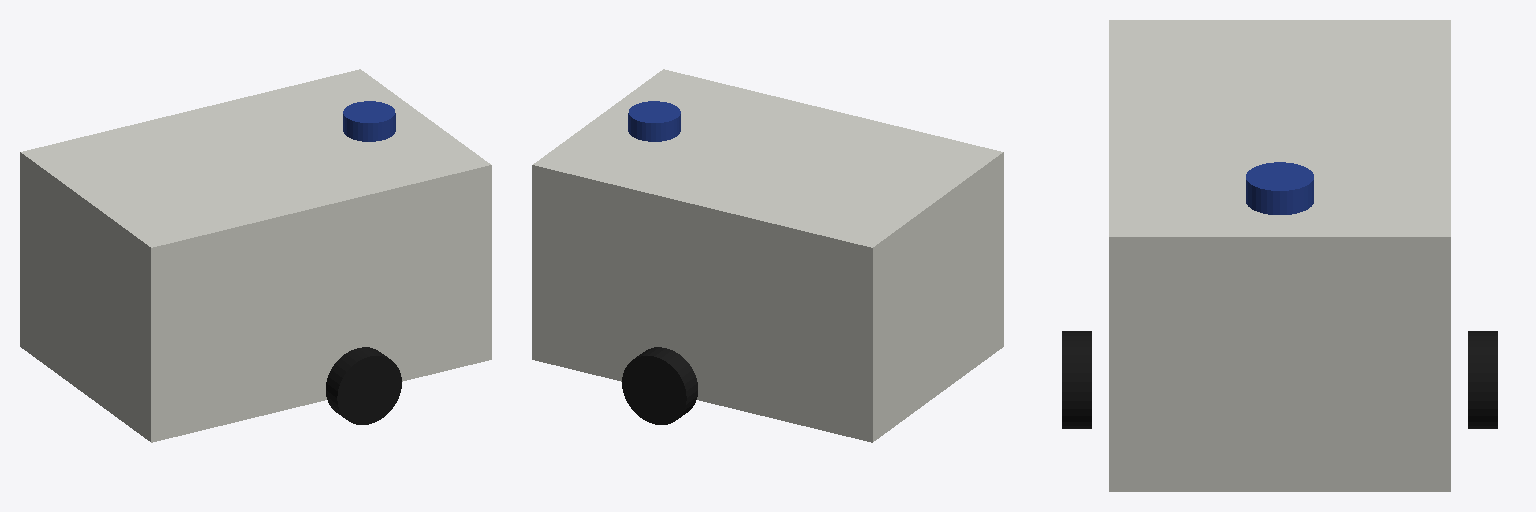
The robot description file, URDF, robot "v8carrier":
<?xml version="1.0"?>
<!-- GENERATED by v8carrier_description/urdf_generator.py from cad/params.yaml.
     Do not edit by hand: run `ros2 run v8carrier_description generate_urdf`
     (or `python3 -m v8carrier_description.urdf_generator`) after changing the
     parameters. Units: metres, kilograms. -->
<robot name="v8carrier">
  <material name="shell"><color rgba="0.85 0.85 0.82 1"/></material>
  <material name="dark"><color rgba="0.15 0.15 0.15 1"/></material>
  <material name="sensor"><color rgba="0.2 0.3 0.6 1"/></material>

  <!-- On the floor under the axle midpoint: the frame odometry and Nav2 use. -->
  <link name="base_footprint"/>

  <joint name="base_footprint_joint" type="fixed">
    <parent link="base_footprint"/>
    <child link="base_link"/>
    <origin xyz="0.0000 0.0000 0.0400" rpy="0 0 0"/>
  </joint>

  <!-- Axle midpoint, wheel-radius above the floor. The body box is
       420 x 280 x 230 mm, its front 173 mm ahead of the axle. -->
  <link name="base_link">
    <visual>
      <origin xyz="-0.0370 0.0000 0.0950" rpy="0 0 0"/>
      <geometry><box size="0.4200 0.2800 0.2300"/></geometry>
      <material name="shell"/>
    </visual>
    <collision>
      <origin xyz="-0.0370 0.0000 0.0950" rpy="0 0 0"/>
      <geometry><box size="0.4200 0.2800 0.2300"/></geometry>
    </collision>
    <inertial>
      <origin xyz="-0.0370 0.0000 0.0950" rpy="0 0 0"/>
      <mass value="4.490"/>
      <inertia ixx="0.04913" ixy="0" ixz="0" iyy="0.08580" iyz="0" izz="0.09534"/>
    </inertial>
  </link>

  <link name="wheel_left">
    <visual>
      <origin xyz="0 0 0" rpy="1.5708 0.0000 0.0000"/>
      <geometry><cylinder radius="0.0400" length="0.0250"/></geometry>
      <material name="dark"/>
    </visual>
    <collision>
      <origin xyz="0 0 0" rpy="1.5708 0.0000 0.0000"/>
      <geometry><cylinder radius="0.0400" length="0.0250"/></geometry>
    </collision>
    <inertial>
      <mass value="0.080"/>
      <inertia ixx="0.000036" ixy="0" ixz="0" iyy="0.000064" iyz="0" izz="0.000036"/>
    </inertial>
  </link>
  <joint name="wheel_left_joint" type="continuous">
    <parent link="base_link"/>
    <child link="wheel_left"/>
    <origin xyz="0.0000 0.1665 0.0000" rpy="0 0 0"/>
    <axis xyz="0 1 0"/>
  </joint>

  <link name="wheel_right">
    <visual>
      <origin xyz="0 0 0" rpy="1.5708 0.0000 0.0000"/>
      <geometry><cylinder radius="0.0400" length="0.0250"/></geometry>
      <material name="dark"/>
    </visual>
    <collision>
      <origin xyz="0 0 0" rpy="1.5708 0.0000 0.0000"/>
      <geometry><cylinder radius="0.0400" length="0.0250"/></geometry>
    </collision>
    <inertial>
      <mass value="0.080"/>
      <inertia ixx="0.000036" ixy="0" ixz="0" iyy="0.000064" iyz="0" izz="0.000036"/>
    </inertial>
  </link>
  <joint name="wheel_right_joint" type="continuous">
    <parent link="base_link"/>
    <child link="wheel_right"/>
    <origin xyz="0.0000 -0.1665 0.0000" rpy="0 0 0"/>
    <axis xyz="0 1 0"/>
  </joint>

  <link name="caster_link">
    <visual>
      <geometry><sphere radius="0.0095"/></geometry>
      <material name="dark"/>
    </visual>
    <collision>
      <geometry><sphere radius="0.0095"/></geometry>
    </collision>
    <inertial>
      <mass value="0.030"/>
      <inertia ixx="0.0000011" ixy="0" ixz="0" iyy="0.0000011" iyz="0" izz="0.0000011"/>
    </inertial>
  </link>
  <joint name="caster_joint" type="fixed">
    <parent link="base_link"/>
    <child link="caster_link"/>
    <origin xyz="-0.2120 0.0000 -0.0305" rpy="0 0 0"/>
  </joint>

  <!-- RPLIDAR C1 on the nose tower, 70 mm behind the front.
       The scan plane is 0.257 m above the floor (approximate until the tower is built). -->
  <link name="laser">
    <visual>
      <origin xyz="0.0000 0.0000 -0.0060" rpy="0 0 0"/>
      <geometry><cylinder radius="0.0280" length="0.0420"/></geometry>
      <material name="sensor"/>
    </visual>
    <inertial>
      <mass value="0.110"/>
      <inertia ixx="0.00002" ixy="0" ixz="0" iyy="0.00002" iyz="0" izz="0.00004"/>
    </inertial>
  </link>
  <joint name="laser_joint" type="fixed">
    <parent link="base_link"/>
    <child link="laser"/>
    <origin xyz="0.1030 0.0000 0.2170" rpy="0 0 0"/>
  </joint>

  <!-- IMU in the electronics pod (right side). Mount the board with its x
       axis forward and z up, or fix the orientation here. -->
  <link name="imu_link">
    <inertial>
      <mass value="0.005"/>
      <inertia ixx="0.000001" ixy="0" ixz="0" iyy="0.000001" iyz="0" izz="0.000001"/>
    </inertial>
  </link>
  <joint name="imu_joint" type="fixed">
    <parent link="base_link"/>
    <child link="imu_link"/>
    <origin xyz="0.0000 -0.1060 0.0400" rpy="0 0 0"/>
  </joint>
</robot>

--- Render facts (derived) ---
3 views of the same robot in one strip: view 1: azimuth 30°, elevation 25°; view 2: azimuth 150°, elevation 25°; view 3: azimuth 270°, elevation 25° (orthographic).
Robot: v8carrier — 7 links, 6 joints (2 continuous, 4 fixed); root link base_footprint; default pose: every joint at zero.
Links seen in each view (by area): view 1: base_link, wheel_right, laser; view 2: base_link, wheel_left, laser; view 3: base_link, laser, wheel_left, wheel_right.
Boxes of the visible links, x1,y1,x2,y2 form: base_link: (20,69,491,442); wheel_right: (326,347,401,424); laser: (343,101,395,141); base_link: (532,69,1003,442); wheel_left: (622,347,697,424); laser: (628,101,680,141); base_link: (1109,20,1450,491); laser: (1246,162,1313,214); wheel_left: (1468,331,1497,428); wheel_right: (1062,331,1091,428).
Bounding box of the posed robot: 0.42 × 0.358 × 0.272 m (x, y, z).
Geometry: primitives only (box / cylinder / sphere), no mesh files.
